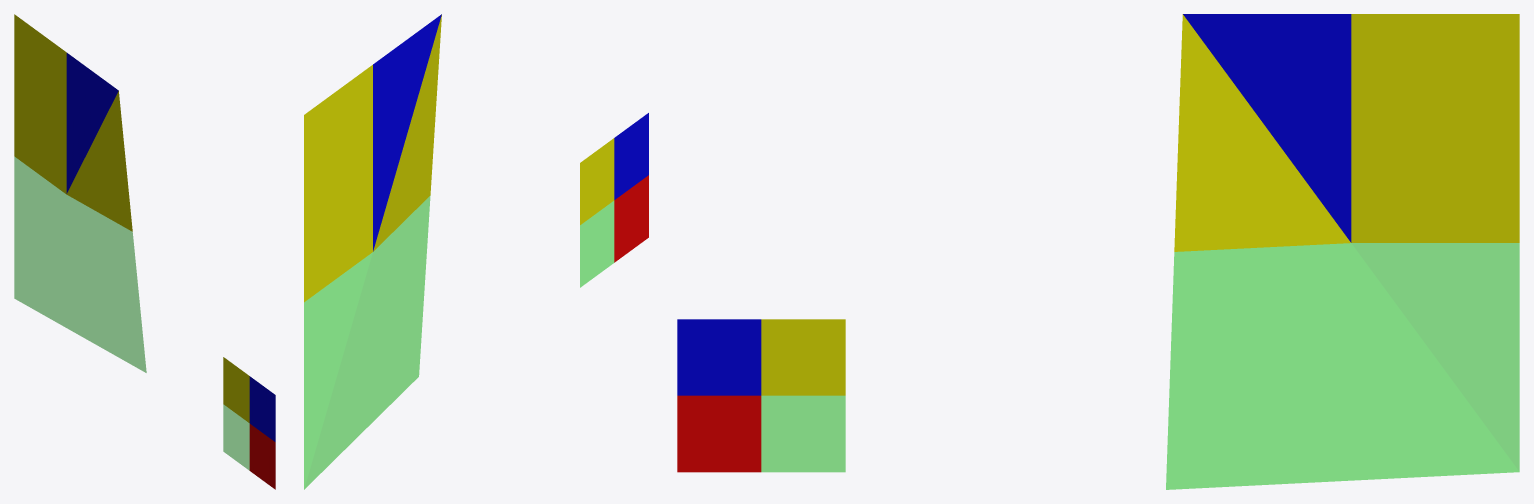
File: glb-human-edited.glb
3 views of the same model, side by side, from view 1: azimuth 30°, elevation 25°; view 2: azimuth 150°, elevation 25°; view 3: azimuth 270°, elevation 25° (orthographic). The views are drawn at different scales.
Visible parts, largest first — view 1: Panel A, Panel B; view 2: Panel A, Panel B; view 3: Panel A, Panel B.
Boxes of the visible parts, x1,y1,x2,y2 form: Panel A: [14, 14, 146, 372]; Panel B: [223, 357, 275, 489]; Panel A: [304, 14, 441, 489]; Panel B: [580, 113, 648, 287]; Panel A: [1166, 14, 1519, 489]; Panel B: [677, 319, 845, 472].
Size of the model in its own units: 0.25 by 3 by 5.
1 material, 1 textured.
